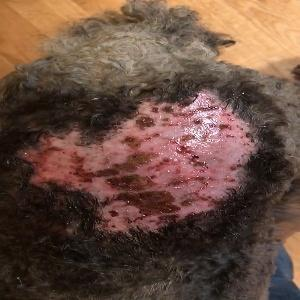skin_lesions: (11, 82, 262, 239)
